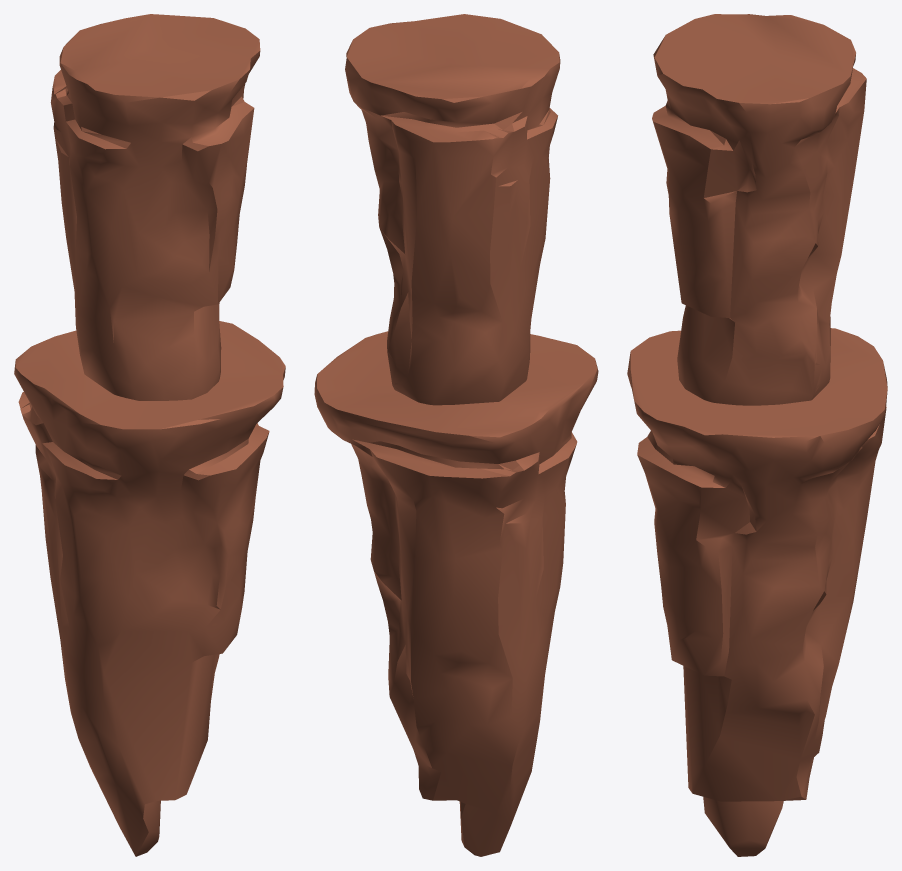
The model's file is Cliff_B.fbx.
3 views of the same model, side by side, from view 1: azimuth 30°, elevation 25°; view 2: azimuth 150°, elevation 25°; view 3: azimuth 270°, elevation 25° (orthographic). The views are drawn at different scales.
Visible parts, largest first — view 1: Cliff_B; view 2: Cliff_B; view 3: Cliff_B.
Boxes of the visible parts, x1,y1,x2,y2 form: Cliff_B: (14,14,285,856); Cliff_B: (314,14,598,856); Cliff_B: (627,14,887,856).
Size of the model in its own units: 4842 by 16815 by 4887.
